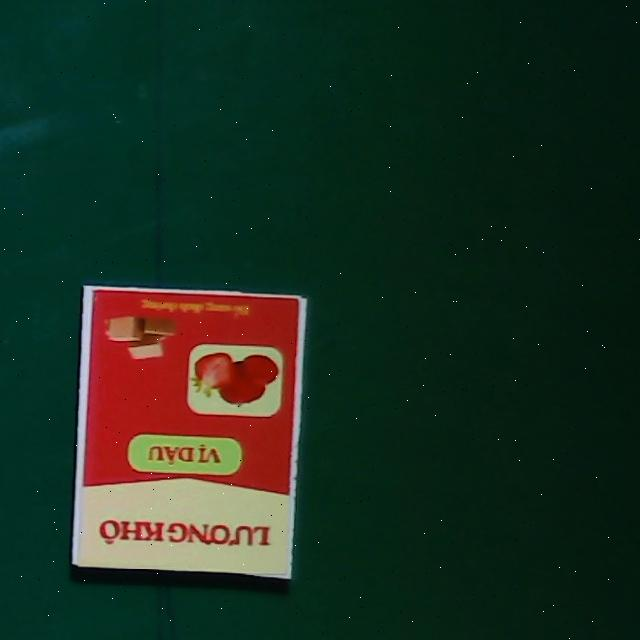dau: (68, 285, 309, 585)
